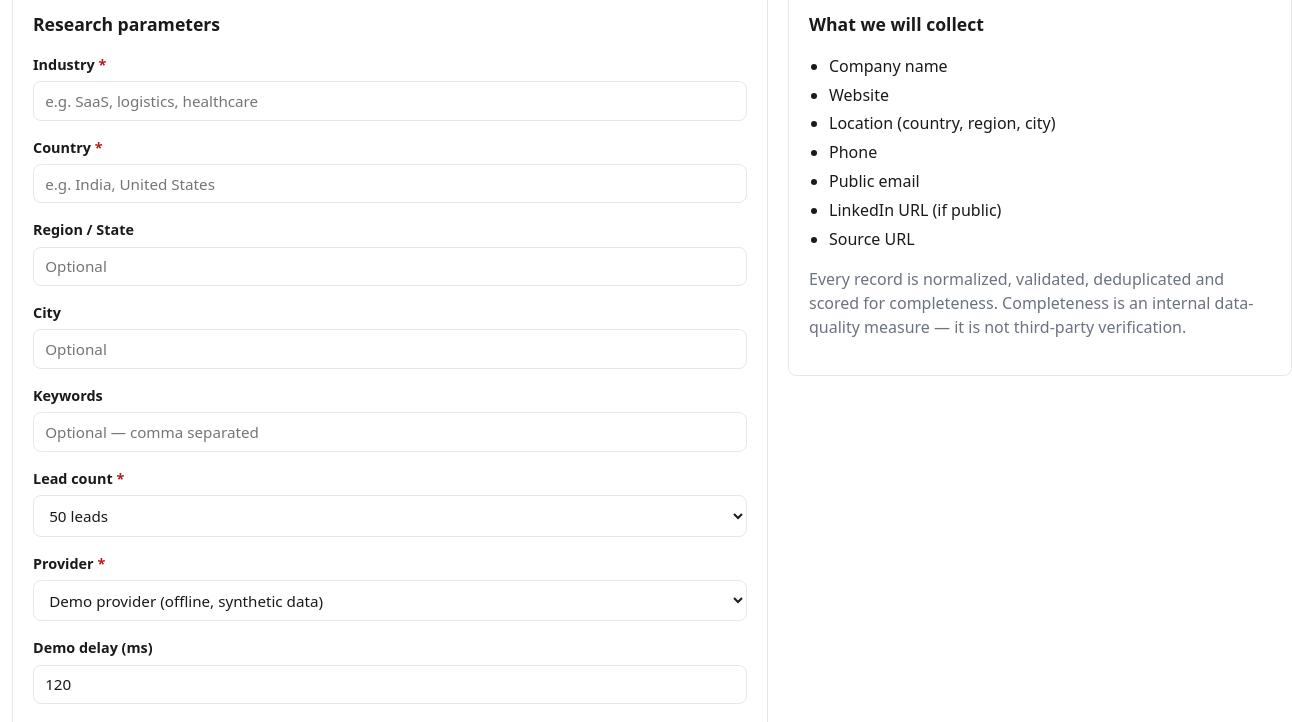
it: NewResearch › rejects an invalid lead count without submitting
The width and height of the screenshot is (1292, 722).
Type "SaaS" into the field labelled "Industry *" at [390, 101], box [33,81,747,121]
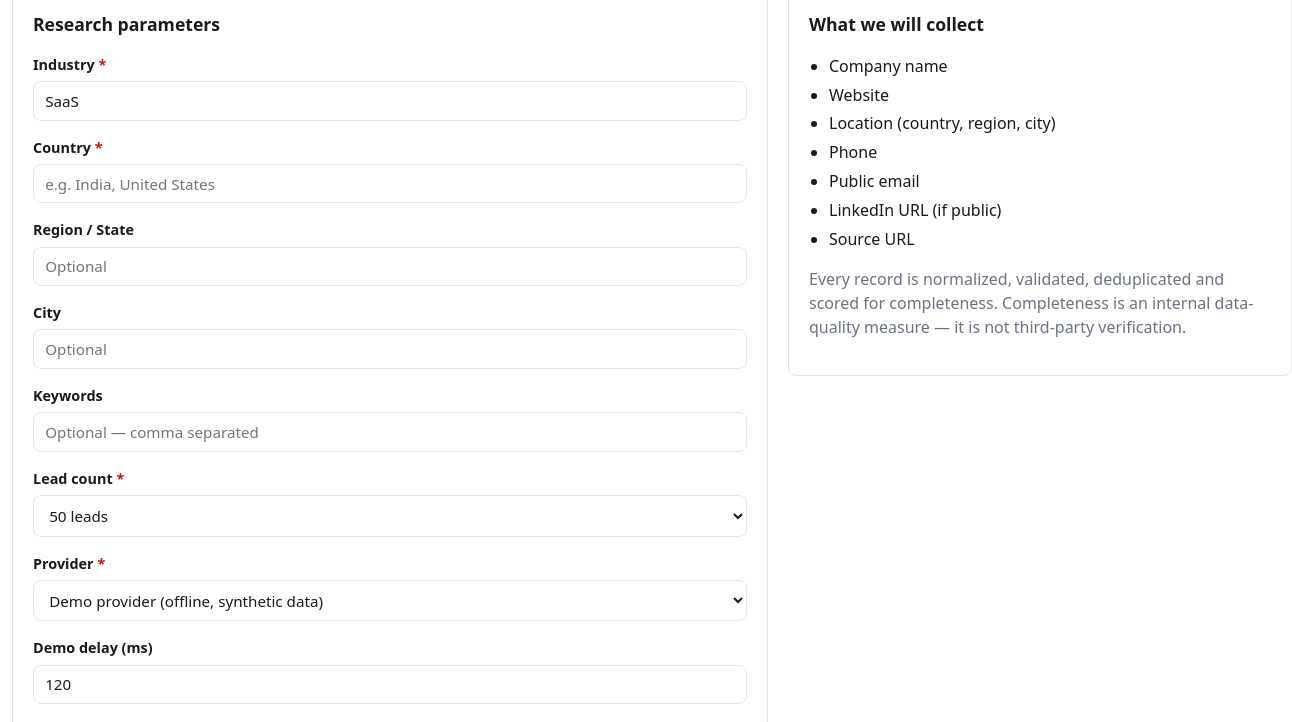
Type "India" into the field labelled "Country *" at [390, 184], box [33,164,747,203]
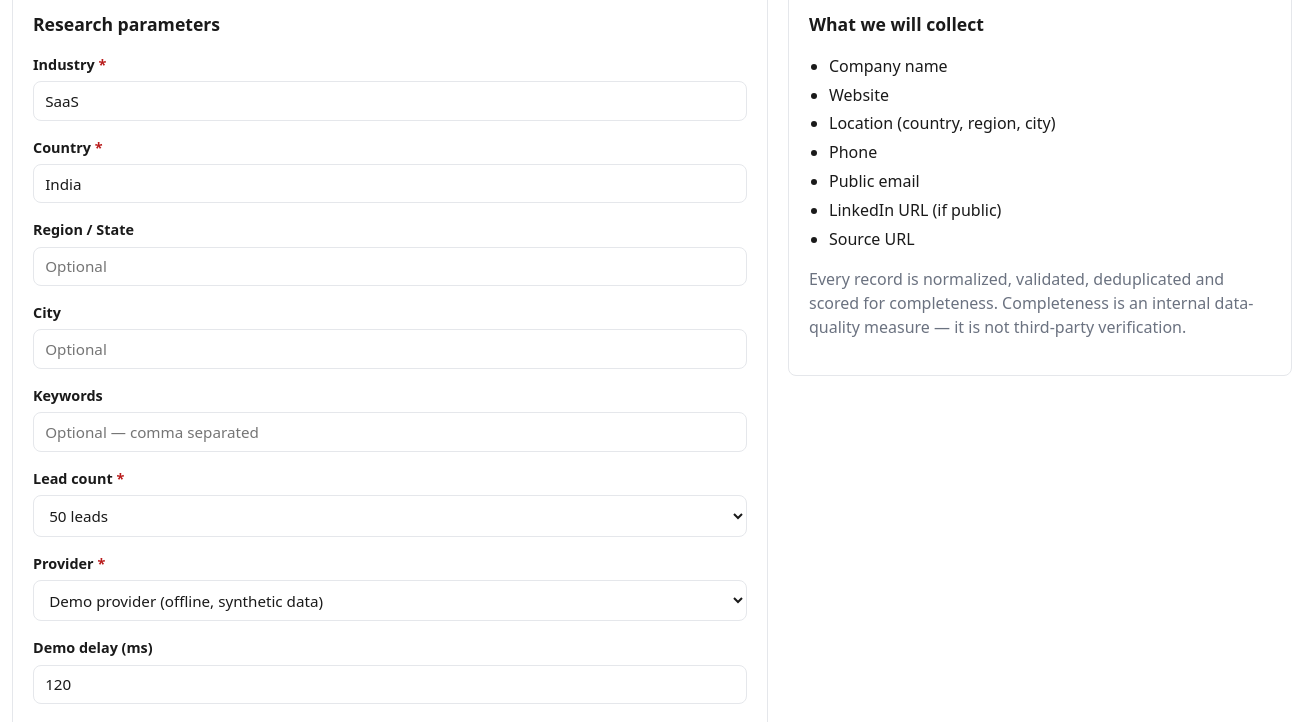
Select "999" in the dropdown labelled "Lead count *" at [390, 516], box [33,495,747,537]
(page scrolled)
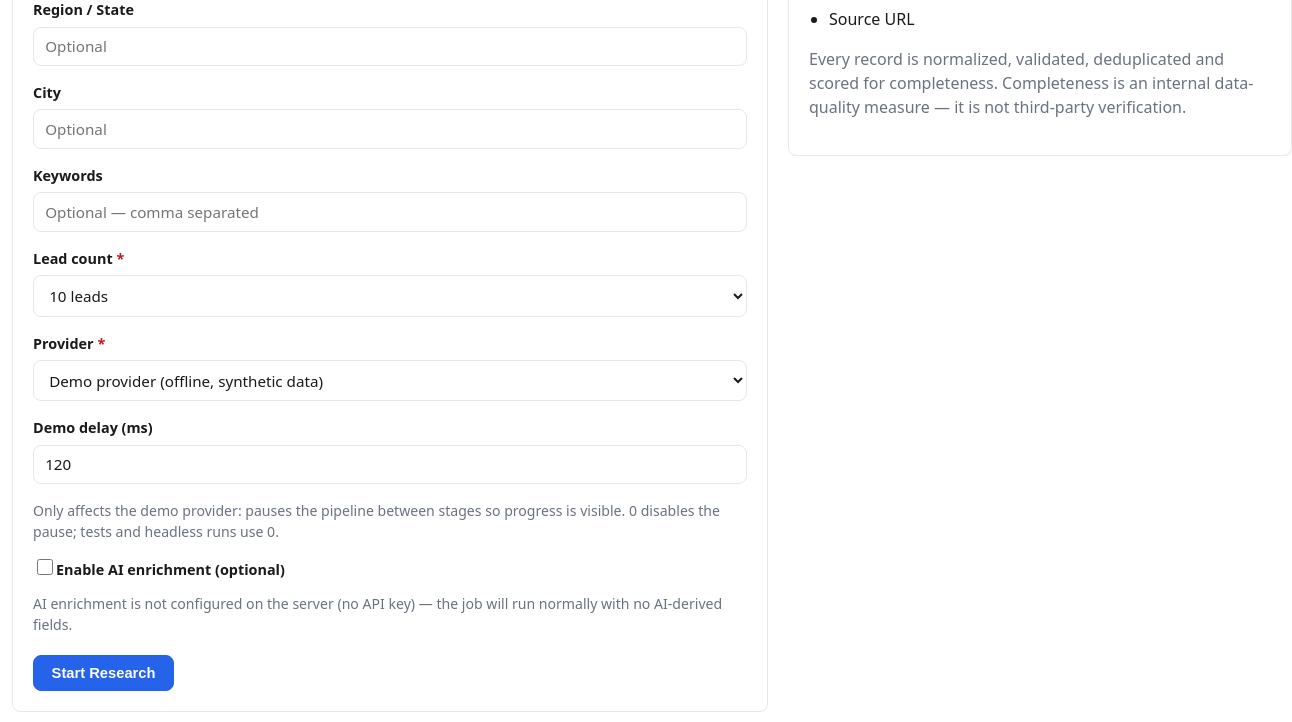
Click the button "Start Research" at [104, 673], box [33,655,174,691]
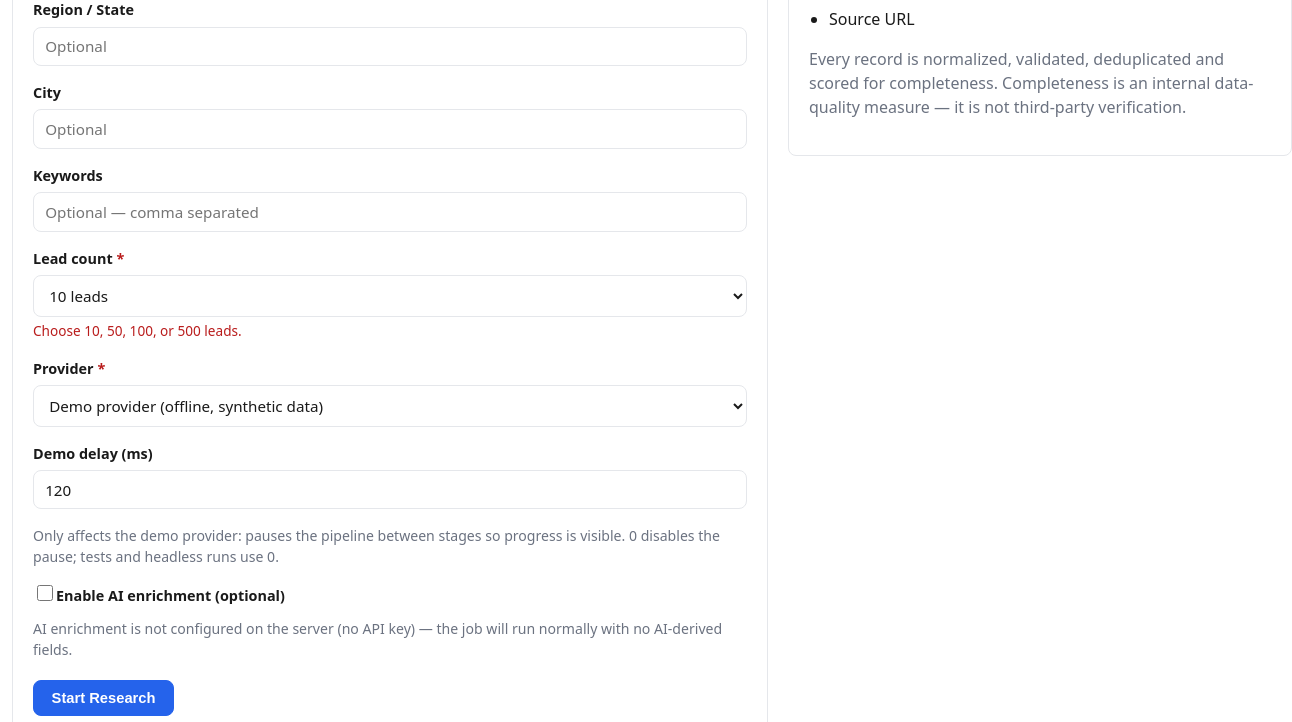
Expected: the text "Choose 10, 50, 100, or 500 leads." is shown, [33,321,242,340]
